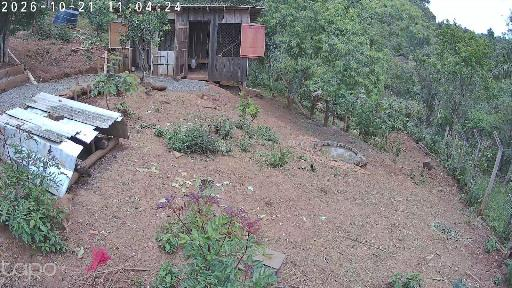galinha: (77, 159, 92, 178), (95, 137, 109, 151), (315, 103, 325, 110), (272, 92, 279, 99)
galo: (311, 87, 322, 97)
